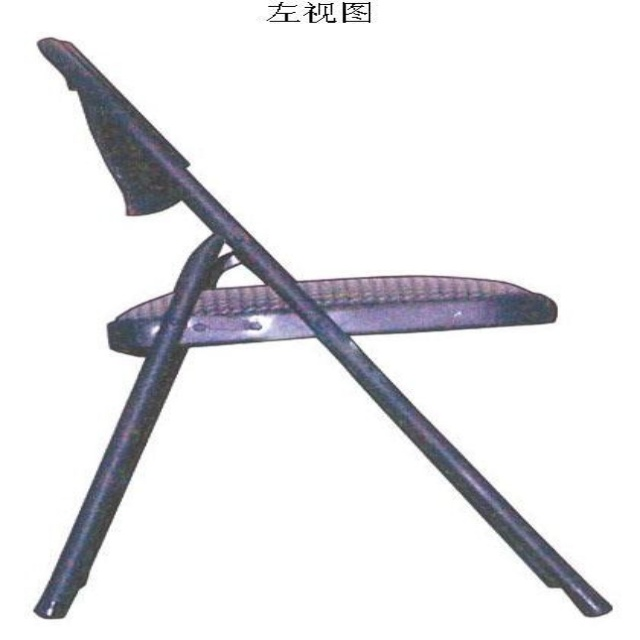obstacle: (38, 38, 610, 615)
